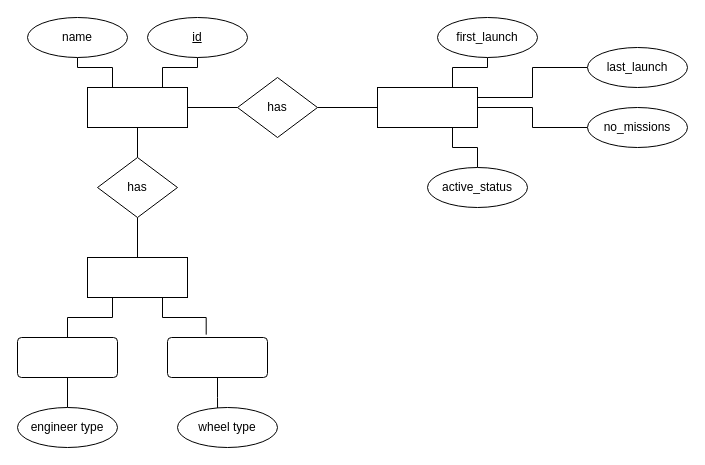
This 705x465 diagram has some shape labels left out. Each missing label, with the centre of its shape:
"air" goes at (217,357).
"land" goes at (67,357).
"Service_Dates" goes at (427,107).
"Type" goes at (137,277).
"Vehicle" goes at (137,107).
